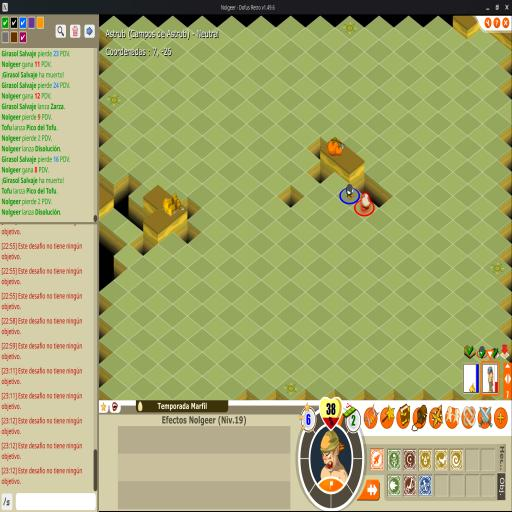Enemigos: (346, 184, 355, 200)
Personaje: (359, 192, 371, 212)
